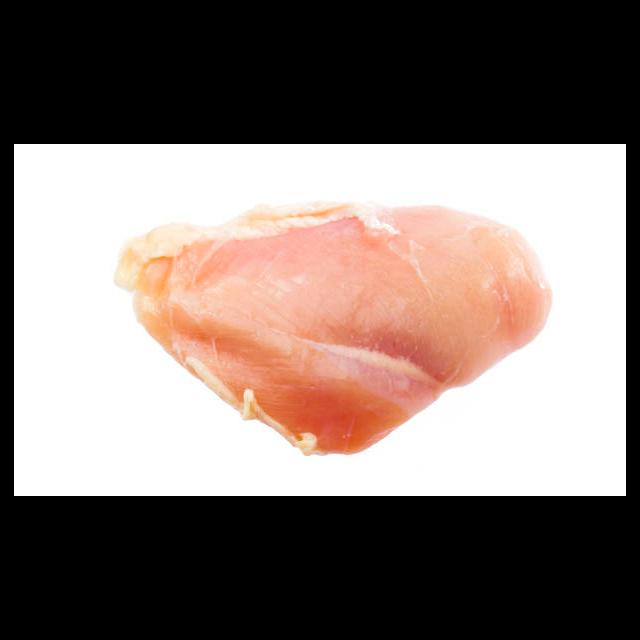chicken: (112, 198, 553, 456)
